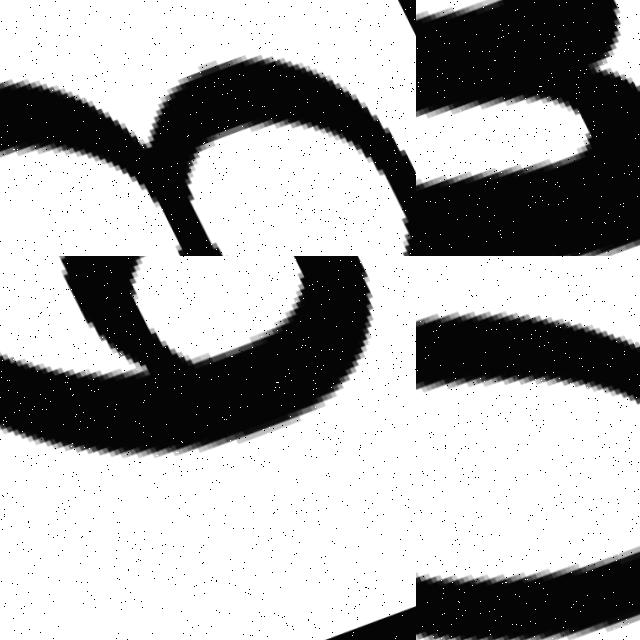0: (416, 256, 640, 640)
8: (0, 0, 416, 256)
9: (0, 256, 416, 563)
M: (416, 0, 640, 256)
